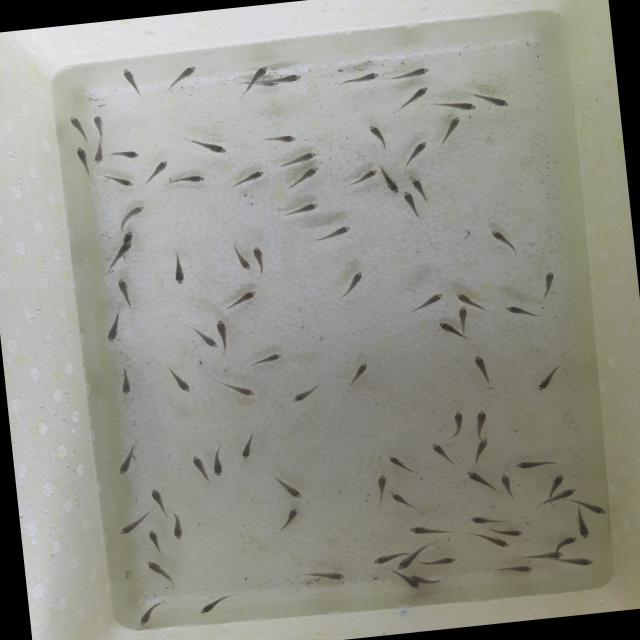fingerling: (274, 163, 324, 194), (212, 288, 262, 316), (164, 357, 196, 400), (143, 557, 181, 593), (528, 360, 566, 395), (100, 240, 136, 276), (196, 589, 245, 615), (266, 471, 304, 504), (396, 138, 432, 172), (512, 452, 566, 474), (267, 504, 304, 536), (468, 348, 497, 388), (114, 65, 148, 99), (336, 266, 370, 300), (336, 166, 380, 192), (233, 426, 263, 464), (391, 83, 434, 109), (111, 202, 148, 232), (98, 307, 128, 344), (184, 134, 230, 158), (98, 168, 140, 194), (131, 598, 167, 628), (406, 288, 447, 314), (406, 518, 454, 540), (433, 114, 464, 148), (488, 224, 518, 259), (463, 466, 498, 496), (335, 68, 387, 88), (500, 298, 540, 324), (217, 375, 257, 401), (226, 166, 271, 189), (311, 222, 357, 244), (365, 120, 393, 156), (386, 450, 419, 480), (114, 442, 142, 477), (112, 274, 138, 311), (162, 170, 210, 190), (165, 62, 199, 90), (273, 149, 323, 168), (534, 266, 560, 302), (342, 358, 372, 389), (280, 198, 322, 220), (167, 246, 190, 286), (444, 408, 470, 443), (388, 62, 432, 82), (242, 350, 286, 370), (117, 357, 138, 398), (376, 163, 402, 196), (386, 488, 419, 514), (428, 440, 456, 470), (213, 317, 234, 356), (140, 156, 174, 180), (188, 452, 210, 488), (289, 381, 323, 404), (465, 436, 491, 466), (207, 441, 227, 479), (66, 111, 89, 144), (398, 188, 419, 224), (417, 552, 459, 570), (306, 566, 348, 584), (431, 100, 478, 116), (115, 514, 146, 538), (150, 484, 173, 516), (434, 316, 460, 344), (478, 90, 514, 110), (250, 243, 270, 279), (470, 406, 493, 437), (72, 144, 94, 176), (168, 510, 190, 542), (497, 468, 517, 503), (231, 242, 253, 272), (89, 110, 108, 144), (468, 511, 510, 526), (110, 146, 144, 164), (492, 562, 534, 576), (276, 68, 306, 86), (266, 130, 298, 146), (581, 499, 609, 517), (146, 525, 163, 554), (523, 550, 564, 562), (198, 332, 220, 354), (576, 510, 592, 540), (566, 554, 596, 569), (366, 552, 398, 566), (90, 143, 108, 167), (455, 303, 471, 330), (246, 63, 271, 80), (452, 288, 476, 305), (372, 470, 392, 490), (497, 524, 524, 538), (556, 484, 578, 500), (489, 535, 512, 550), (409, 175, 426, 195), (554, 534, 578, 548), (393, 556, 415, 571), (548, 471, 566, 488), (118, 230, 136, 242), (406, 580, 420, 590), (548, 488, 550, 489)
